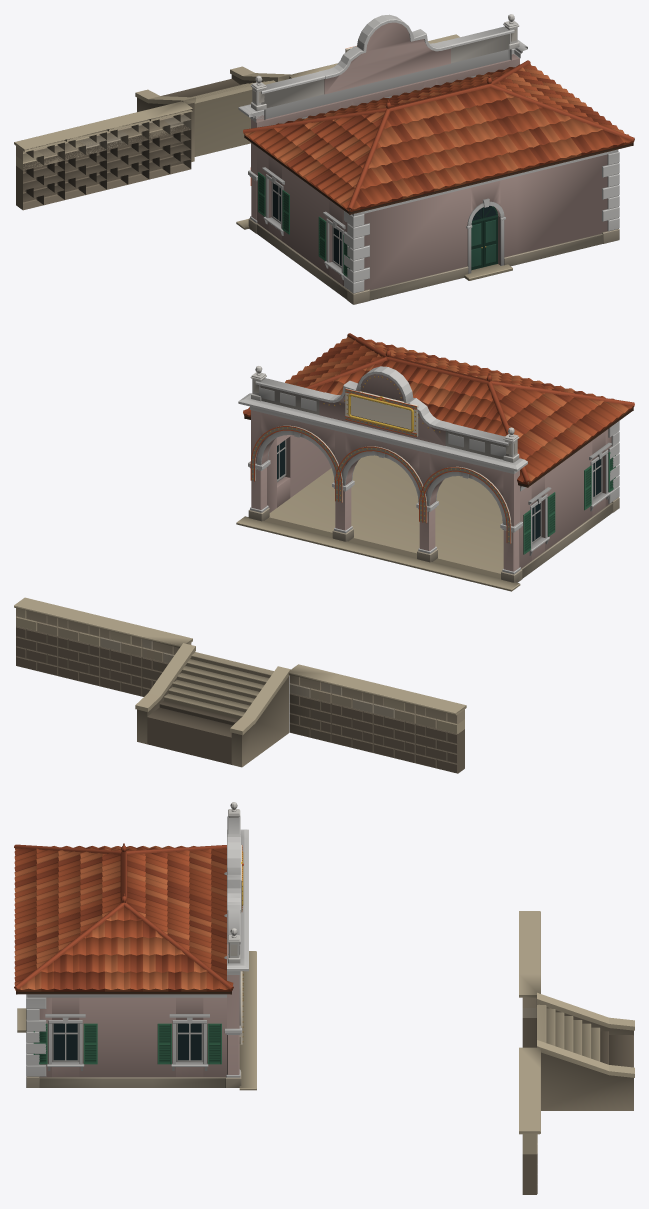
File: demo.glb
The picture shows the model from 3 angles, top to bottom: view 1: azimuth 30°, elevation 25°; view 2: azimuth 150°, elevation 25°; view 3: azimuth 270°, elevation 25°; orthographic projection. The views are drawn at different scales.
Parts seen in each view (by area): view 1: static_pavilion, static_embankment; view 2: static_pavilion, static_embankment; view 3: static_pavilion, static_embankment.
Boxes of the visible parts, left/top/right/bottom form: static_pavilion: left=236, top=14, right=634, bottom=304; static_embankment: left=14, top=34, right=459, bottom=210; static_pavilion: left=236, top=333, right=634, bottom=591; static_embankment: left=14, top=597, right=466, bottom=773; static_pavilion: left=14, top=802, right=256, bottom=1090; static_embankment: left=519, top=911, right=634, bottom=1194.
Bounding box in the file's own units: 21 × 11 × 25.
